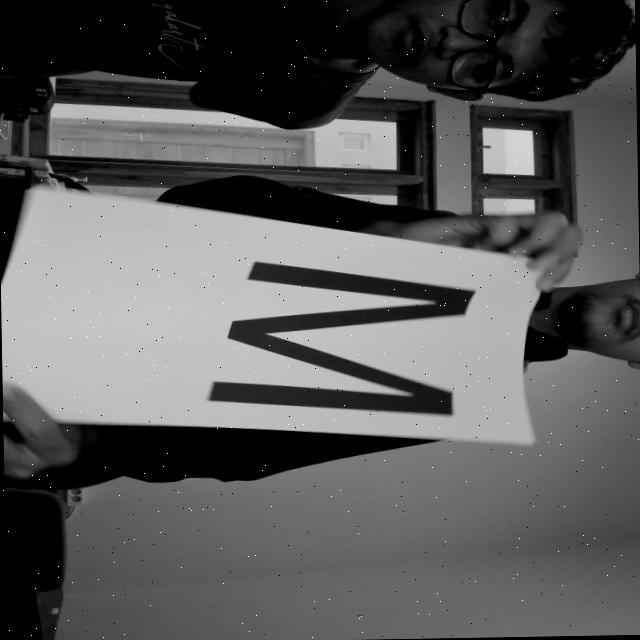m: (184, 255, 481, 424)
